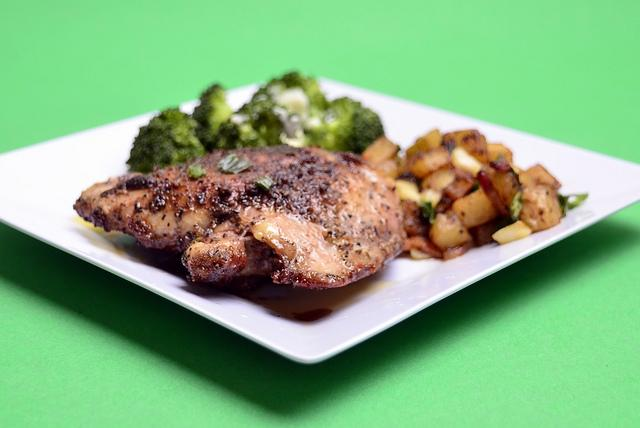broccoli: (126, 108, 206, 174), (303, 96, 384, 156), (192, 84, 240, 154), (230, 88, 284, 148), (280, 72, 326, 112)
potato: (518, 184, 562, 235), (452, 186, 500, 230), (434, 174, 476, 217), (428, 210, 472, 251), (441, 130, 488, 164), (408, 146, 451, 178), (406, 129, 441, 165), (400, 199, 431, 239), (361, 136, 398, 166), (450, 146, 483, 178), (492, 220, 532, 245), (526, 165, 562, 192), (403, 234, 442, 258), (419, 168, 456, 190), (395, 177, 420, 206), (376, 156, 407, 179), (486, 143, 513, 163), (490, 158, 510, 172)
